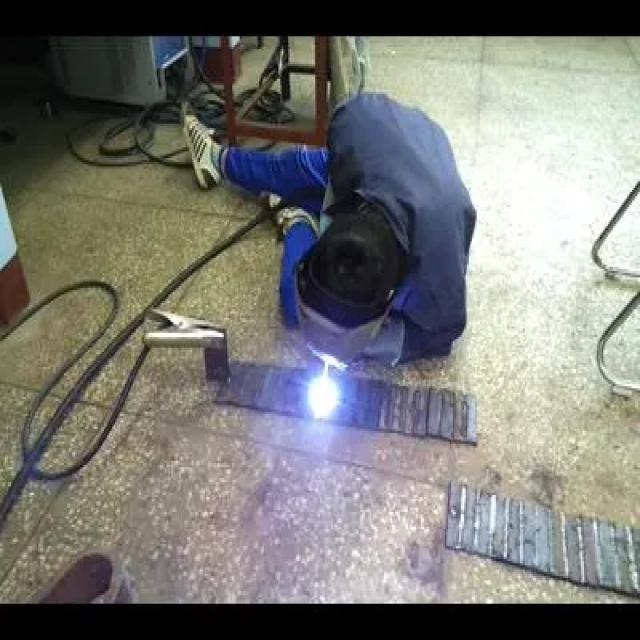welding: (306, 373, 342, 422)
